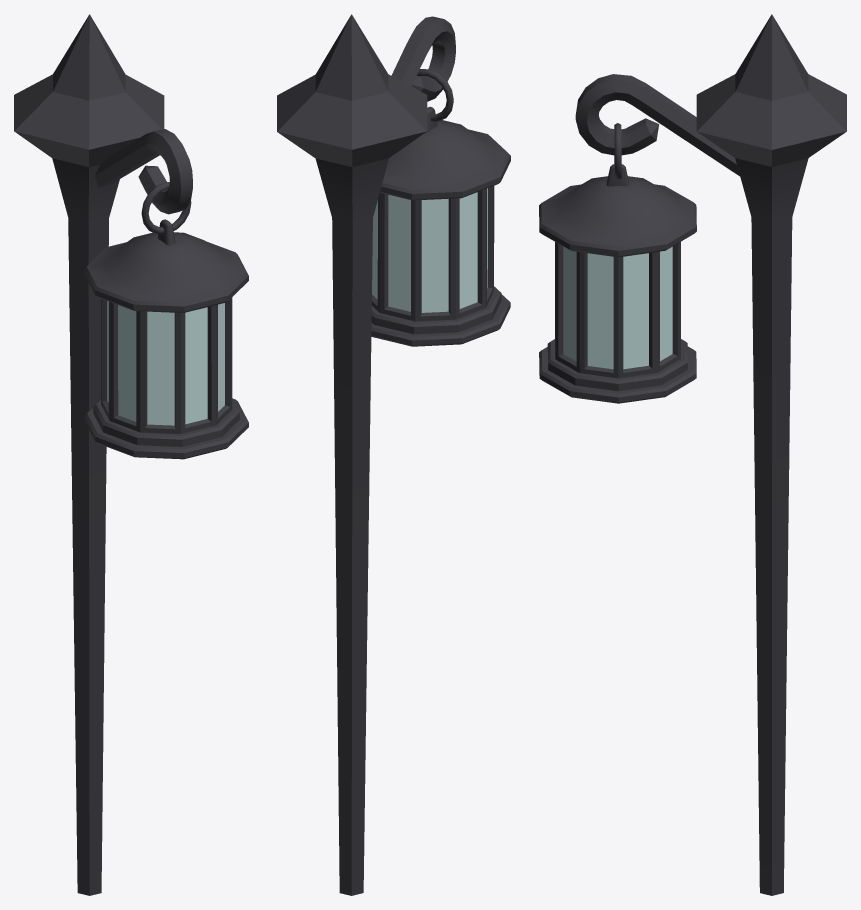
File: Lantern_Staff.fbx
3 renders of one model, left to right at view 1: azimuth 30°, elevation 25°; view 2: azimuth 150°, elevation 25°; view 3: azimuth 270°, elevation 25°, orthographic.
Parts seen in each view (by area): view 1: Lantern_Staff, Lantern, Glass; view 2: Lantern_Staff, Lantern, Glass; view 3: Lantern_Staff, Lantern, Glass.
Part boxes in pixels (<box>): Lantern_Staff: <box>14,14,192,895</box>; Lantern: <box>84,181,248,459</box>; Glass: <box>107,301,224,425</box>; Lantern_Staff: <box>277,14,455,895</box>; Lantern: <box>371,69,510,346</box>; Glass: <box>372,188,487,312</box>; Lantern_Staff: <box>575,14,846,895</box>; Lantern: <box>539,123,696,403</box>; Glass: <box>563,246,672,369</box>.
Size of the model in its own units: 9.92 by 55.32 by 17.62.
